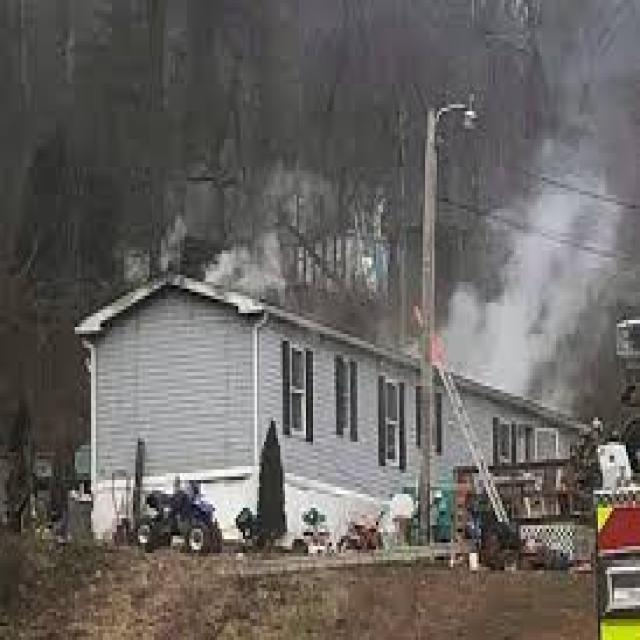Smoke: (423, 0, 640, 414), (119, 169, 392, 300)
